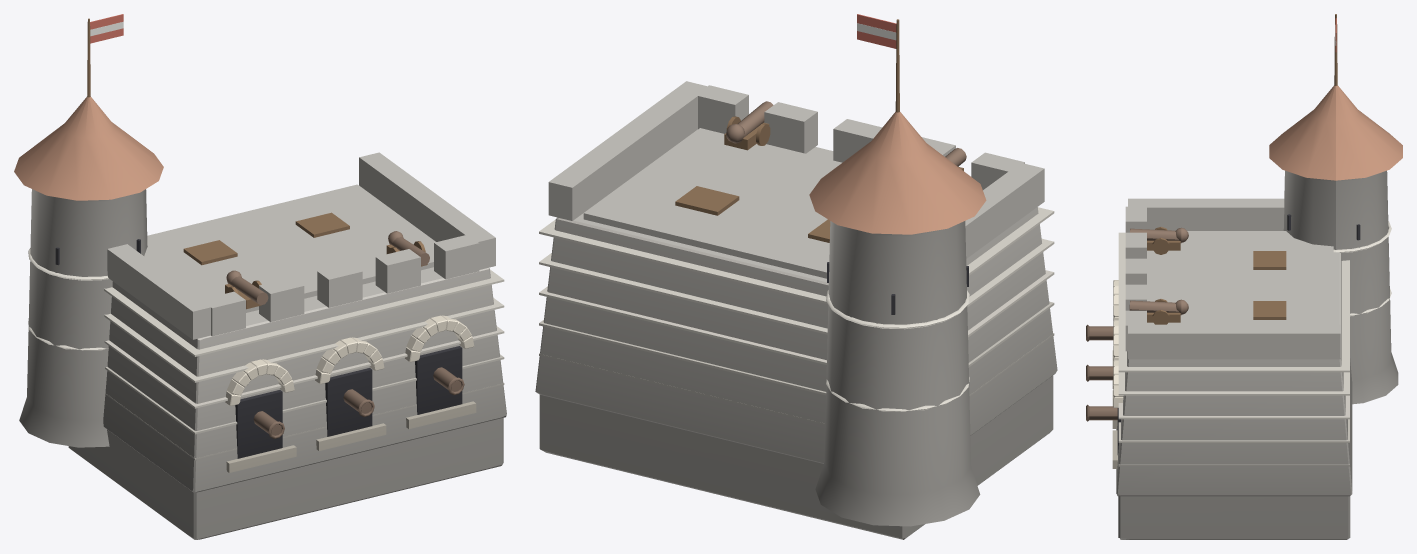
The model's file is bastion_granit.glb.
3 renders of one model, left to right at view 1: azimuth 30°, elevation 25°; view 2: azimuth 150°, elevation 25°; view 3: azimuth 270°, elevation 25°, orthographic. The views are drawn at different scales.
Parts seen in each view (by area): view 1: G_bastion_granit; view 2: G_bastion_granit; view 3: G_bastion_granit.
Boxes of the visible parts, bbox=[...] form: G_bastion_granit: bbox=[14, 14, 506, 539]; G_bastion_granit: bbox=[535, 14, 1057, 539]; G_bastion_granit: bbox=[1086, 14, 1402, 539].
Bounding box in the file's own units: 16.2 × 18.4 × 13.4.
